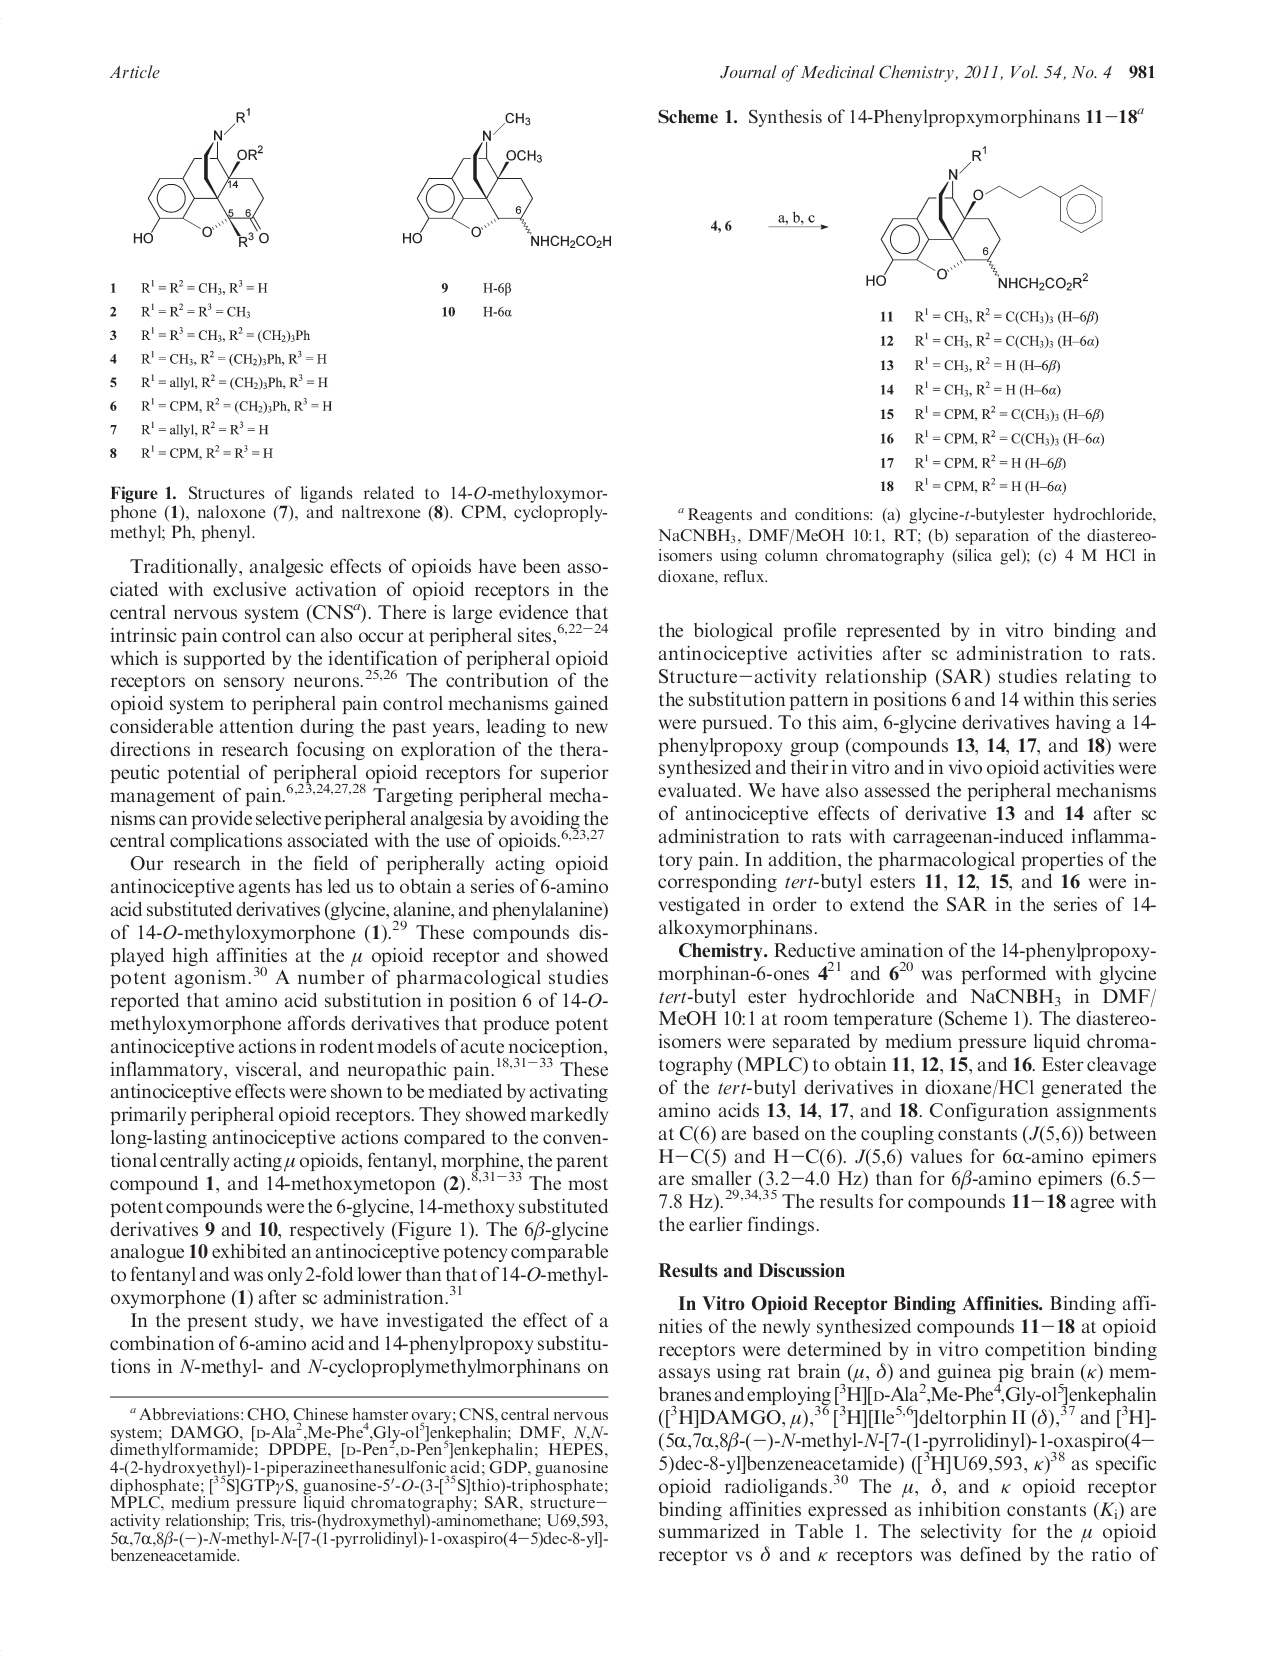exist_molecular: (864, 140, 1108, 294), (396, 106, 616, 261), (128, 106, 278, 259)
